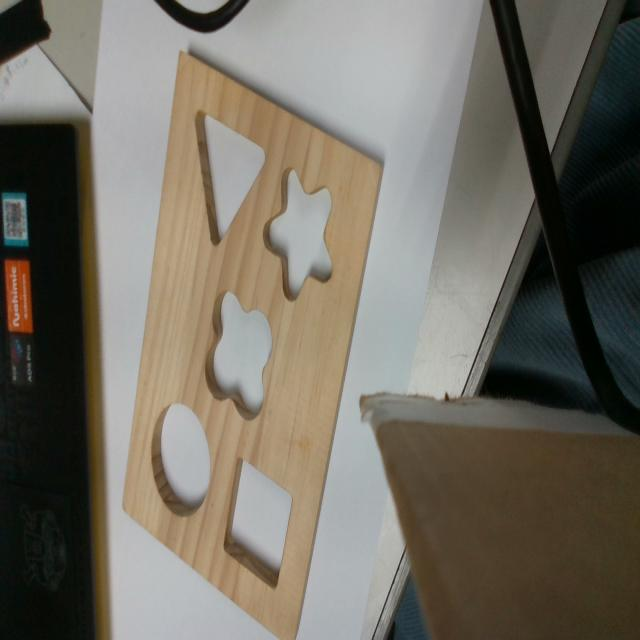circle: (153, 401, 210, 515)
flower: (205, 293, 274, 416)
square: (222, 458, 293, 589)
star: (264, 168, 336, 301)
triangle: (195, 108, 269, 246)
